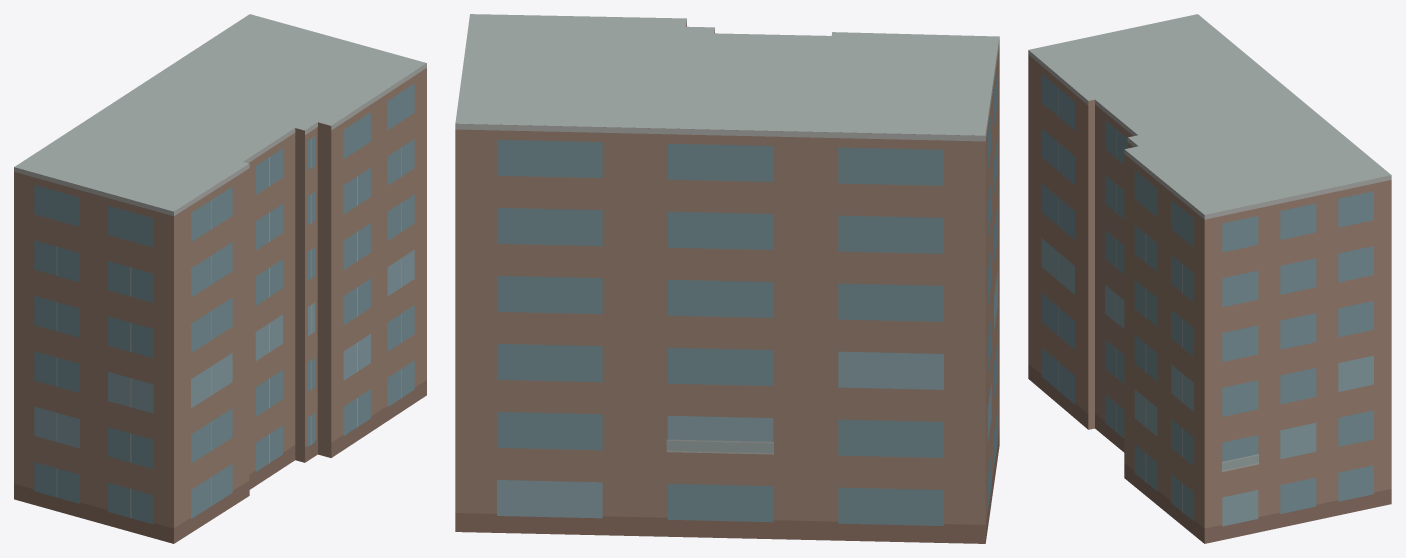
File: survey-upis-32533298.glb
3 renders of one model, left to right at view 1: azimuth 30°, elevation 25°; view 2: azimuth 150°, elevation 25°; view 3: azimuth 270°, elevation 25°, orthographic. The views are drawn at different scales.
Parts seen in each view (by area): view 1: survey-upis-32533298.tmp; view 2: survey-upis-32533298.tmp; view 3: survey-upis-32533298.tmp.
Boxes of the visible parts, bbox=[...] form: survey-upis-32533298.tmp: bbox=[14, 14, 426, 543]; survey-upis-32533298.tmp: bbox=[455, 14, 999, 543]; survey-upis-32533298.tmp: bbox=[1028, 14, 1391, 543].
Size of the model in its own units: 22.69 by 17.3 by 17.33.
